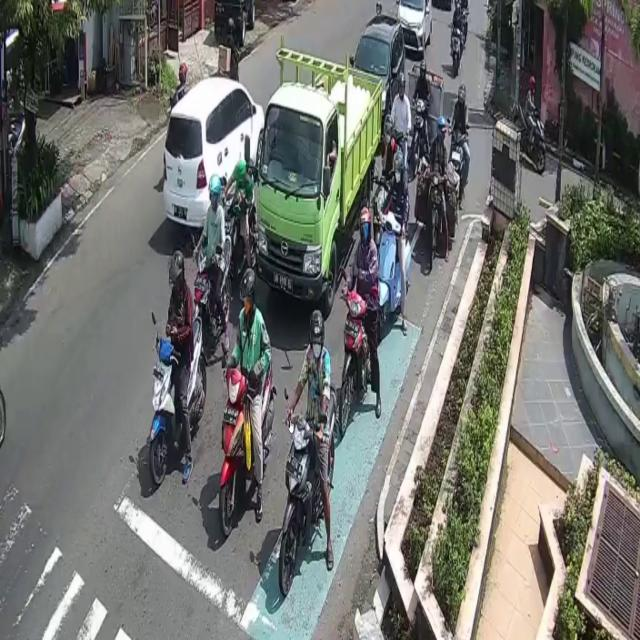bus: (279, 383, 339, 596), (148, 313, 208, 488), (221, 349, 276, 537), (339, 294, 380, 434), (190, 234, 233, 344), (376, 210, 409, 334), (221, 190, 256, 278), (511, 101, 546, 177), (428, 165, 447, 264), (412, 101, 430, 176), (448, 133, 467, 195), (450, 27, 466, 81)
motorcycle: (162, 73, 265, 235), (351, 14, 406, 142), (399, 0, 435, 57)
truck: (256, 45, 384, 313)
